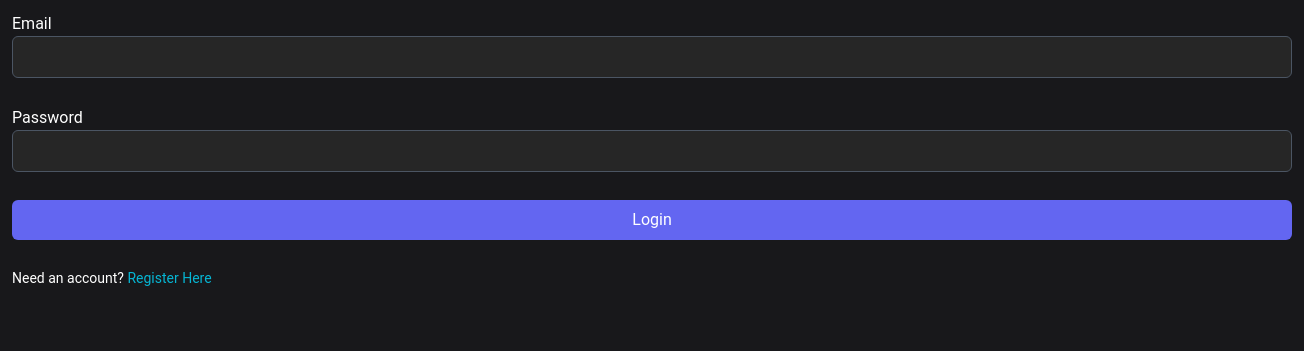
Test case: SignInForm › shows validation errors for empty fields
Click the button with test id "button-sigin" at coordinates (652, 220), box [12, 200, 1292, 240]
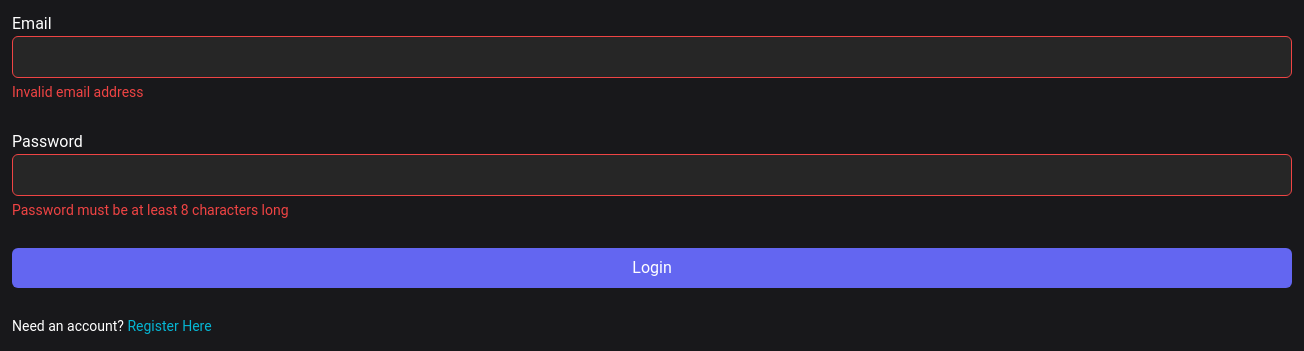
Now the text "Invalid email address" is shown, box [12, 84, 144, 100]
Now the text "Password must be at least 8 characters long" is shown, box [12, 202, 289, 218]
